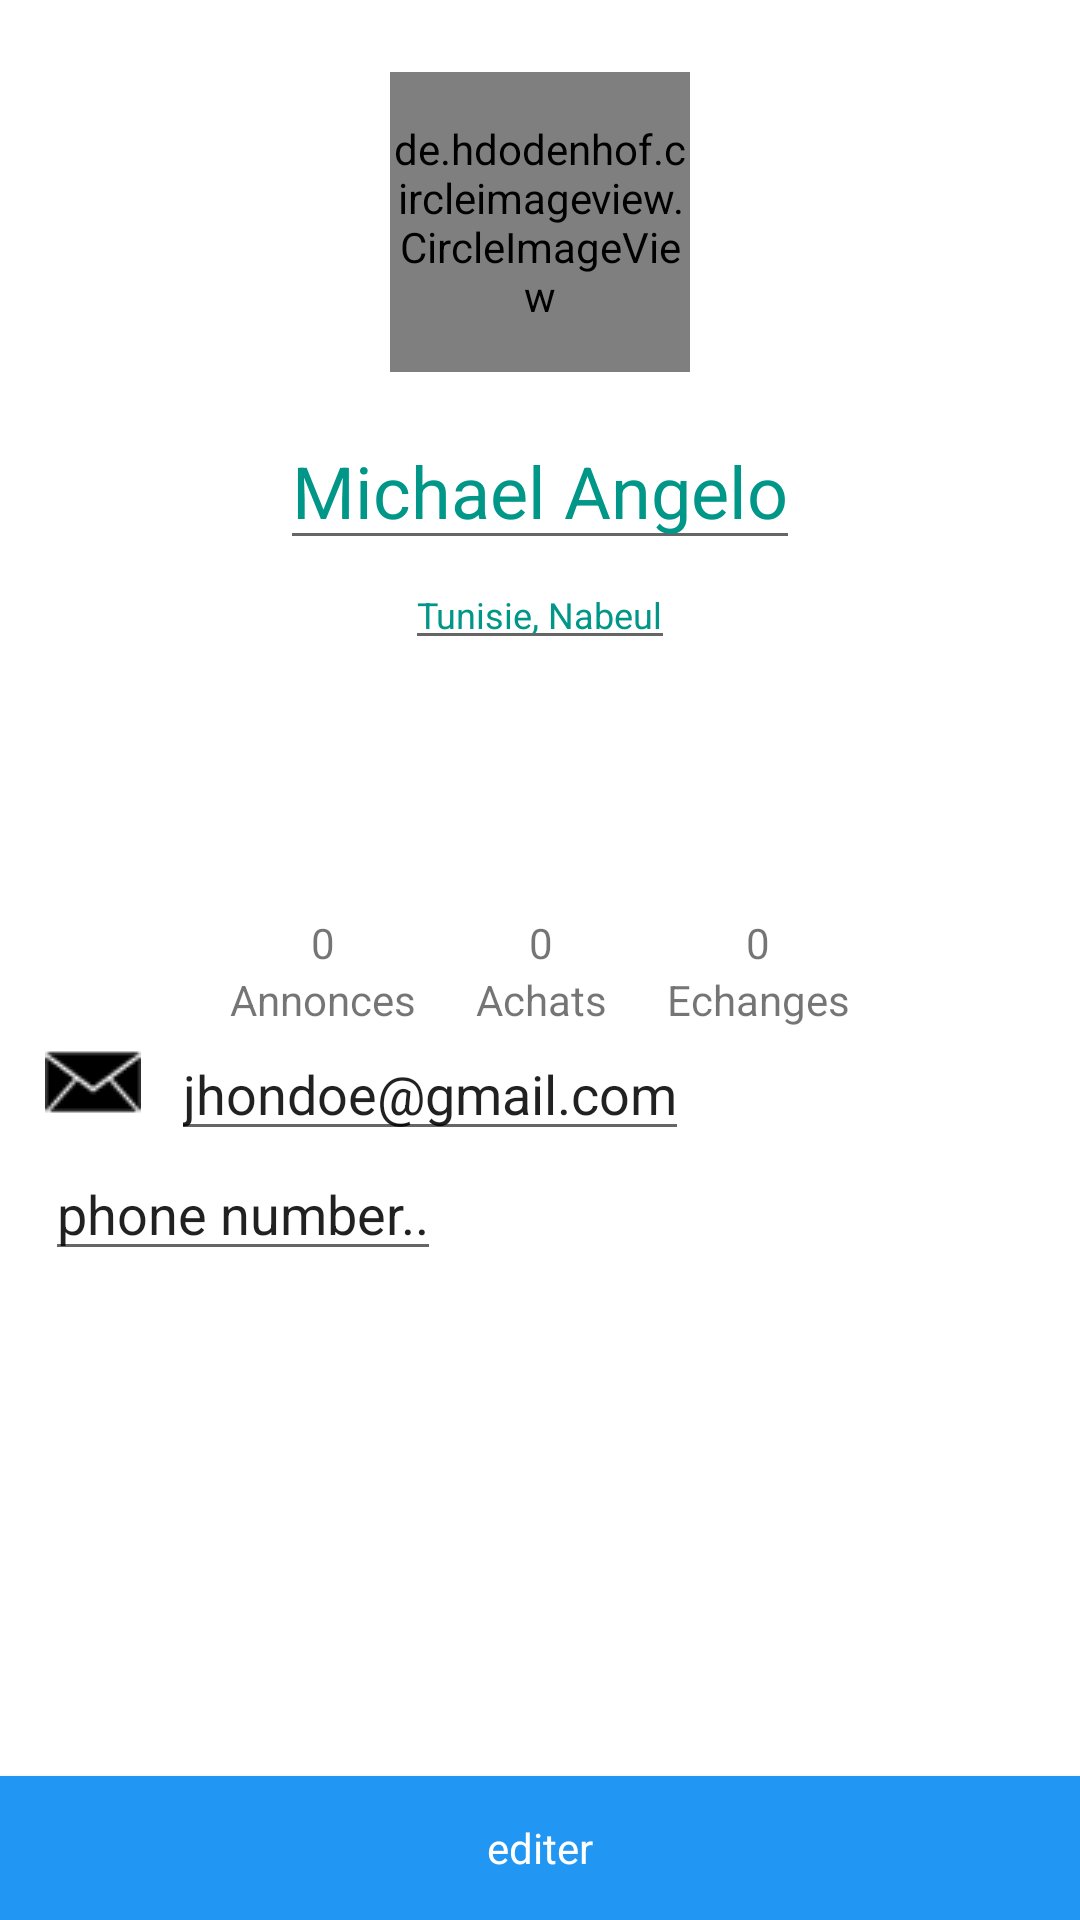

Where icons sit on this 1080px×1920px app screen, as [x1, y1, x2, y2]:
icone email: [45, 1051, 141, 1113]
